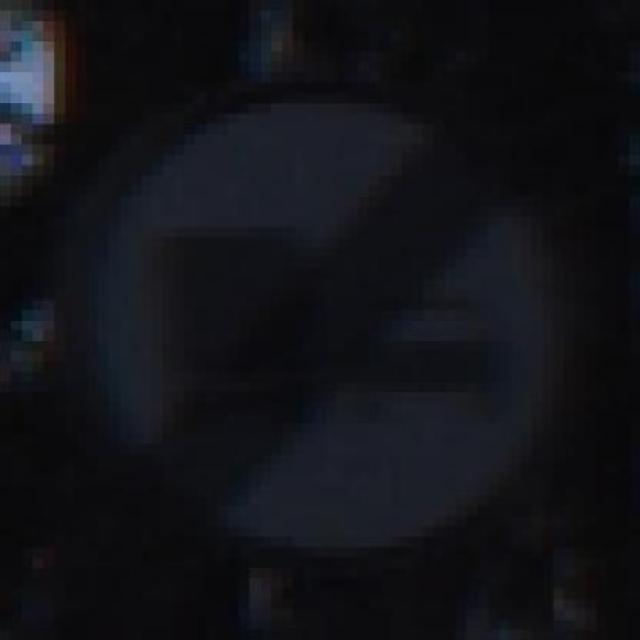Overtaking by trucks is prohibited: (32, 61, 586, 568)
